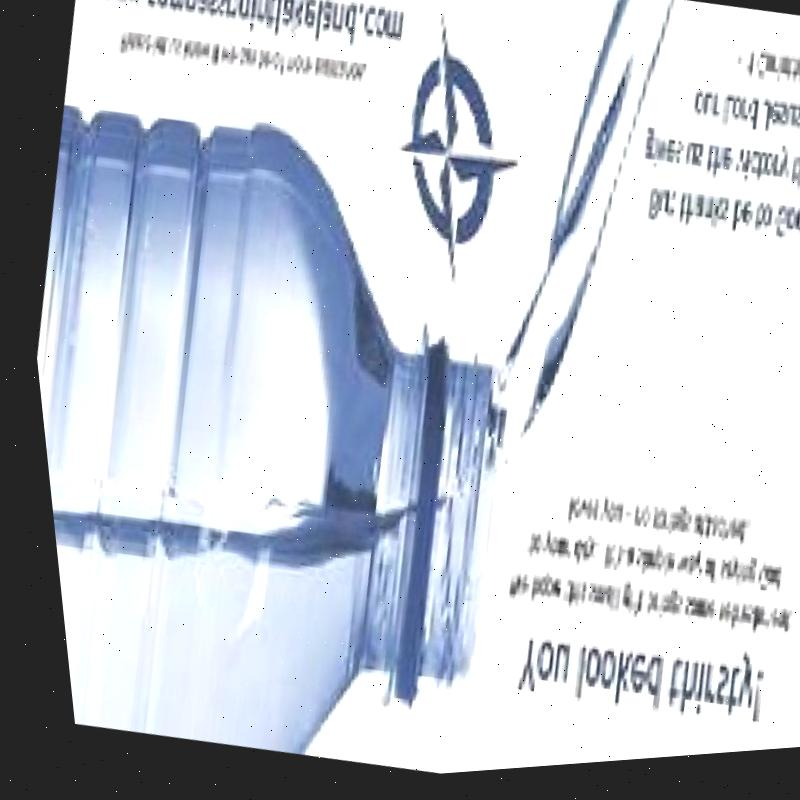botella: (8, 71, 571, 800)
